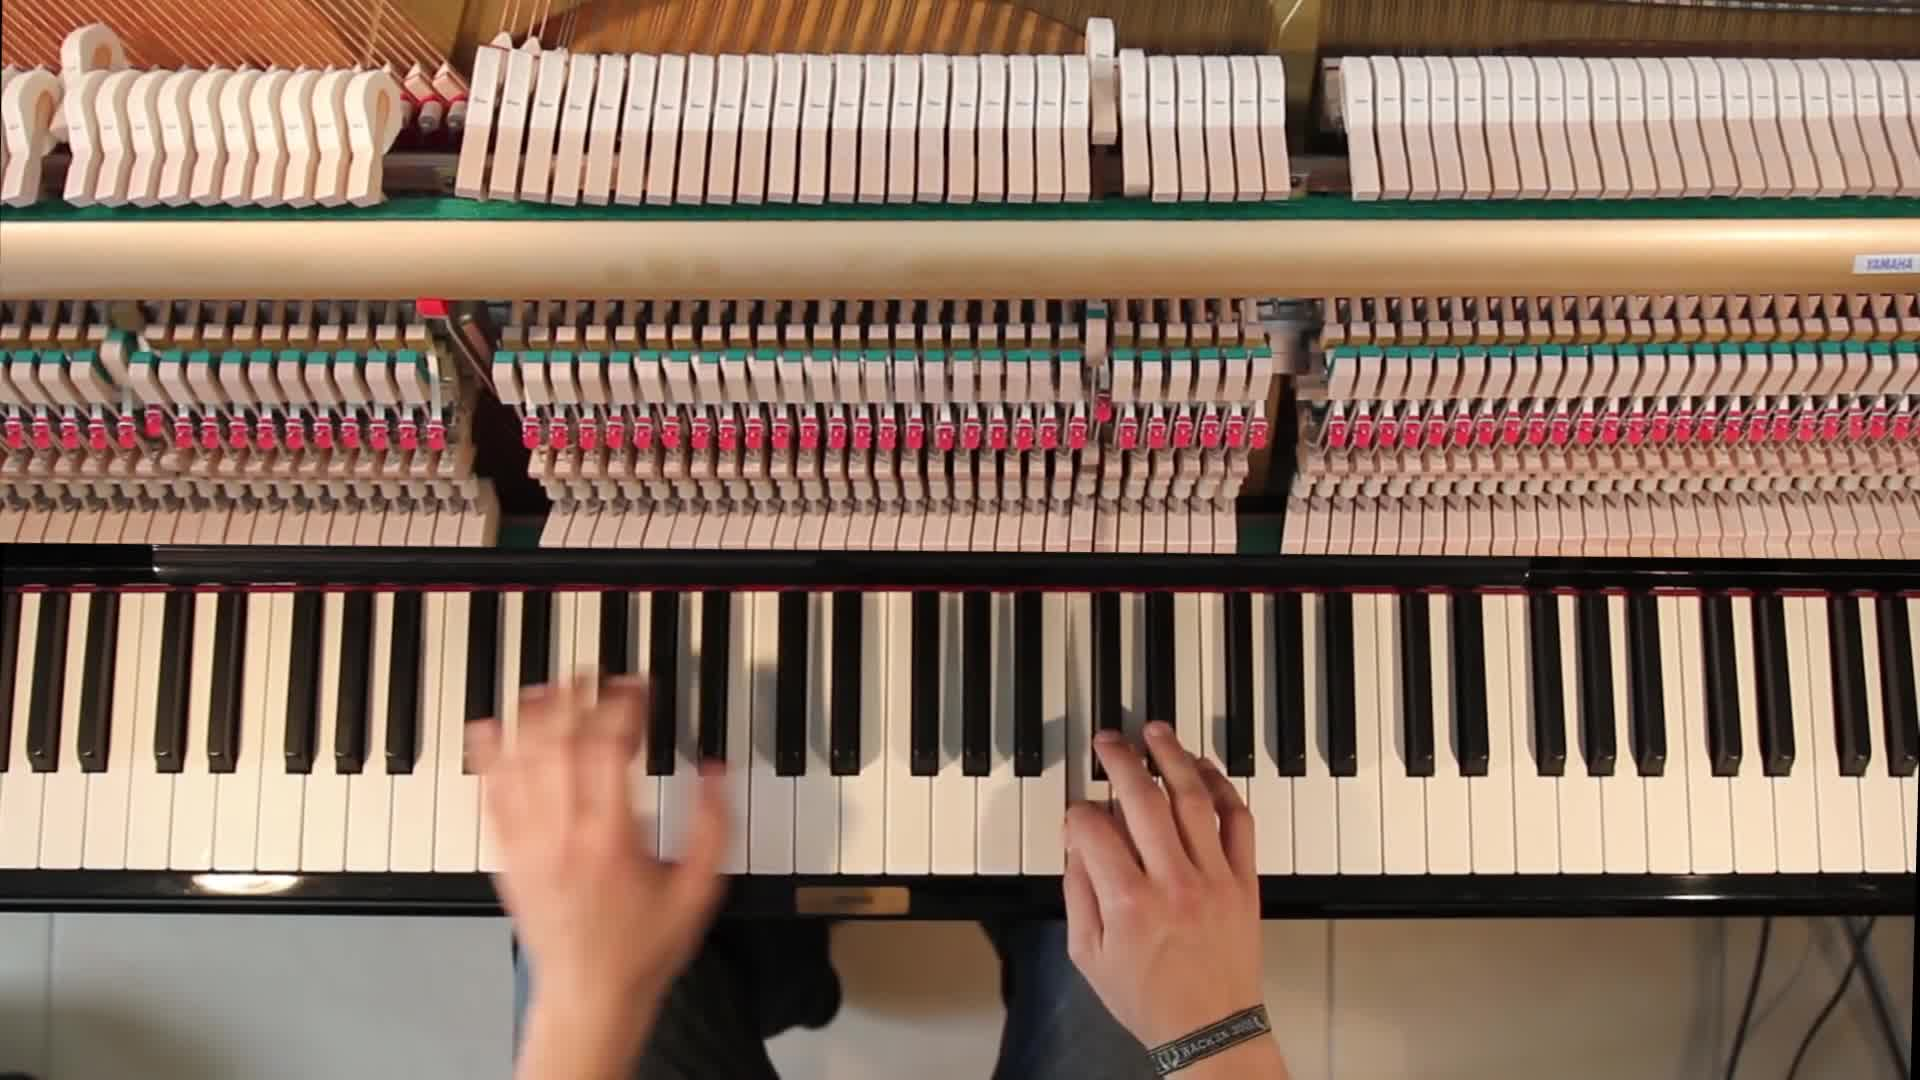left: (464, 666, 737, 998)
right: (1062, 716, 1263, 1007)
